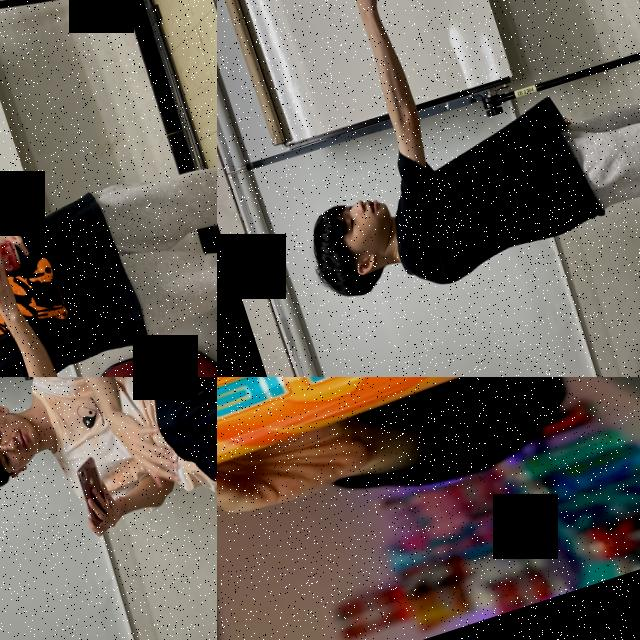can: (217, 377, 598, 507), (0, 237, 24, 288)
